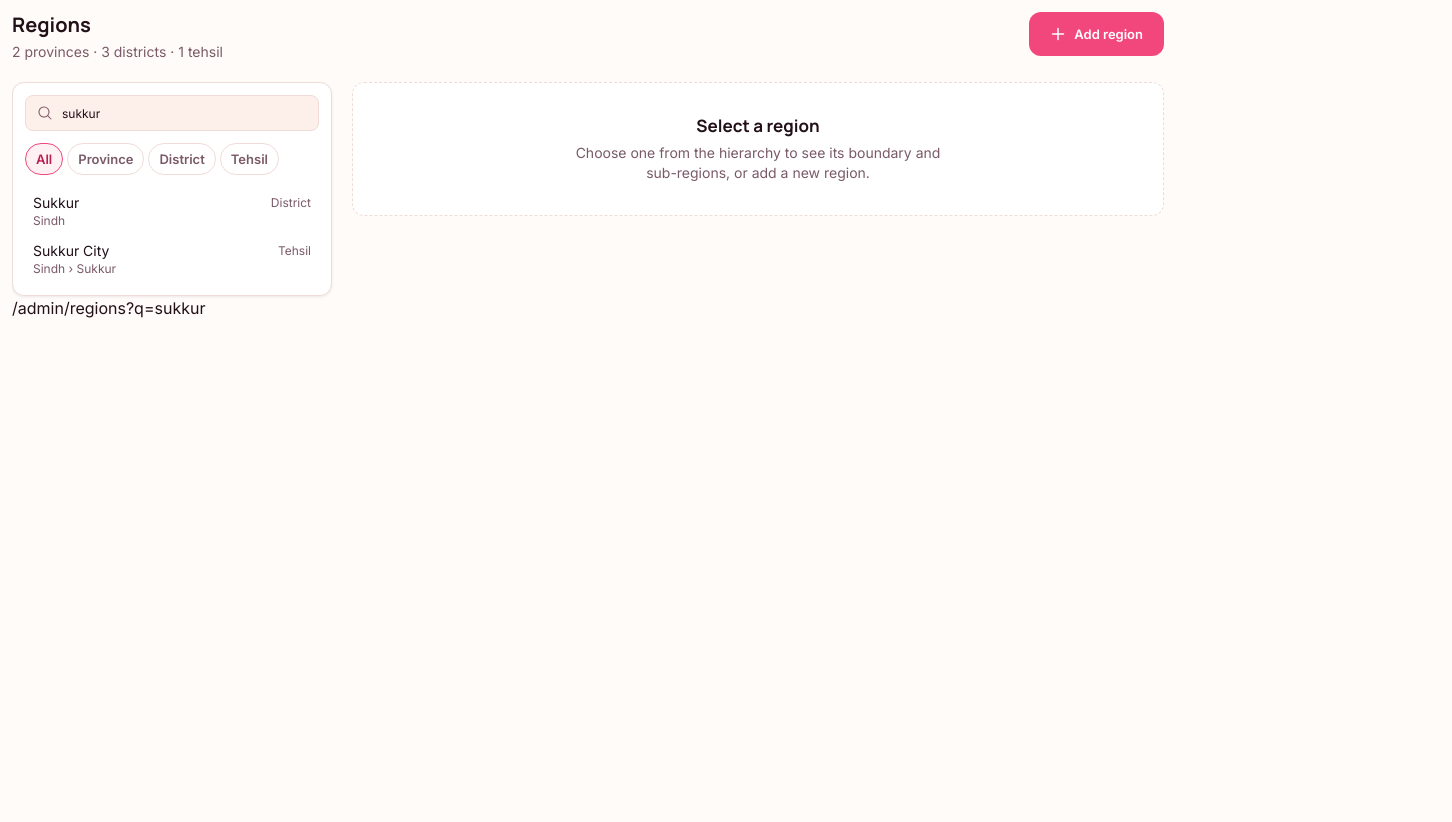
Test: RegionsPage — browsing › keeps the filter when moving between regions
This screenshot has width=1452, height=822.
Step 1. Click the link "Sukkur City Sindh › Sukkur Tehsil" → (71, 250), box [25,235,319,283]
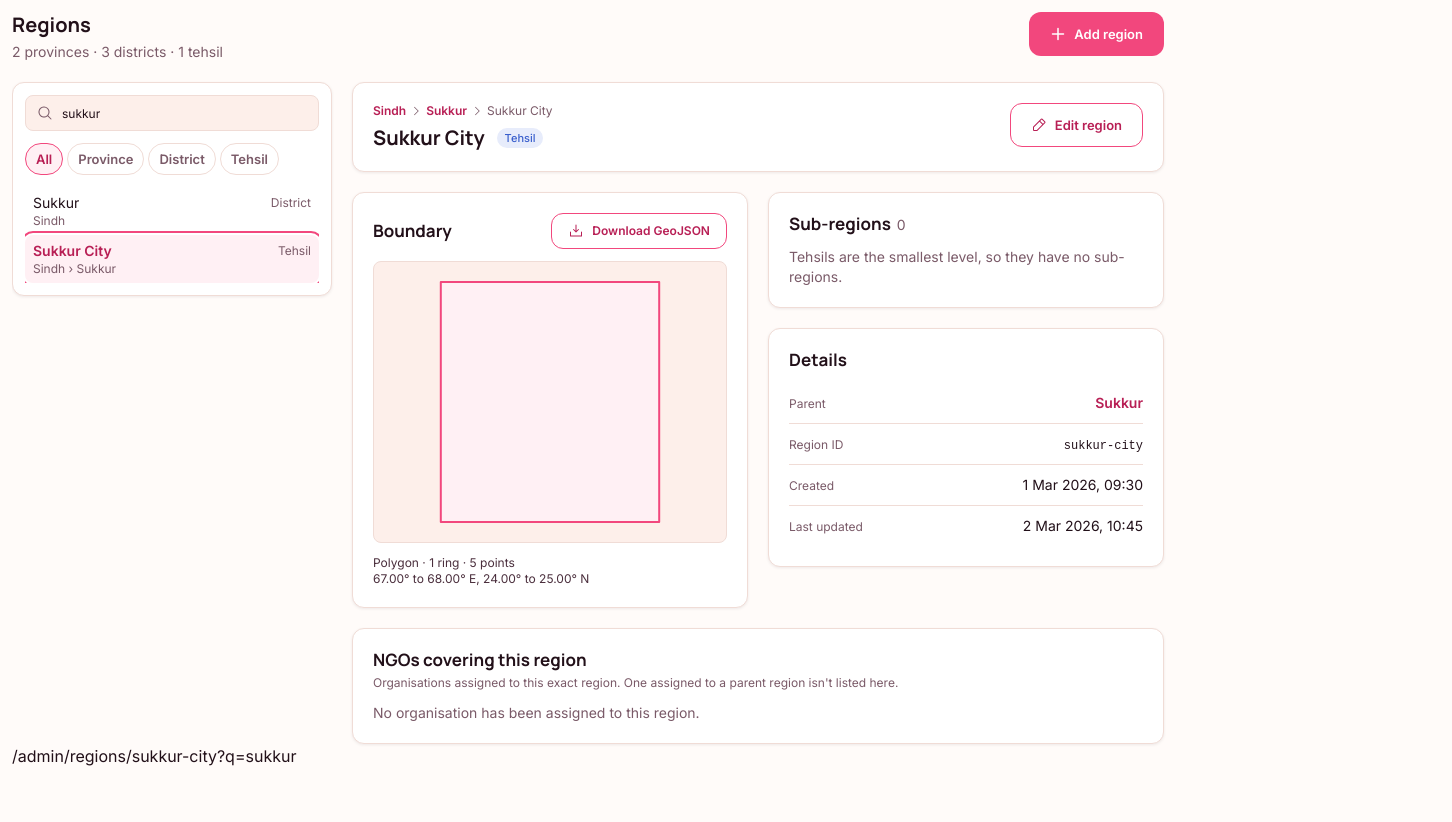
Expected: the search field named "Search regions" holds "sukkur", [25,95,319,131]
Expected: the text with test id "location" reads "/admin/regions/sukkur-city?q=sukkur", [12,746,296,766]
Expected: the heading "Sukkur City" is shown, [373,125,485,151]
